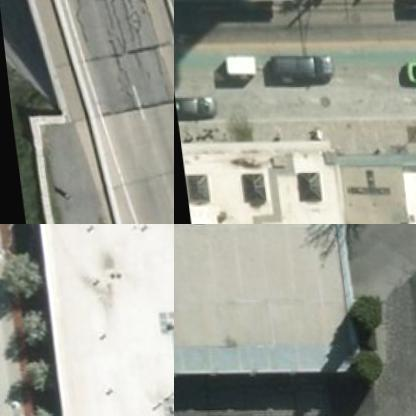car: (272, 54, 328, 83), (174, 92, 211, 123), (397, 58, 415, 89)
